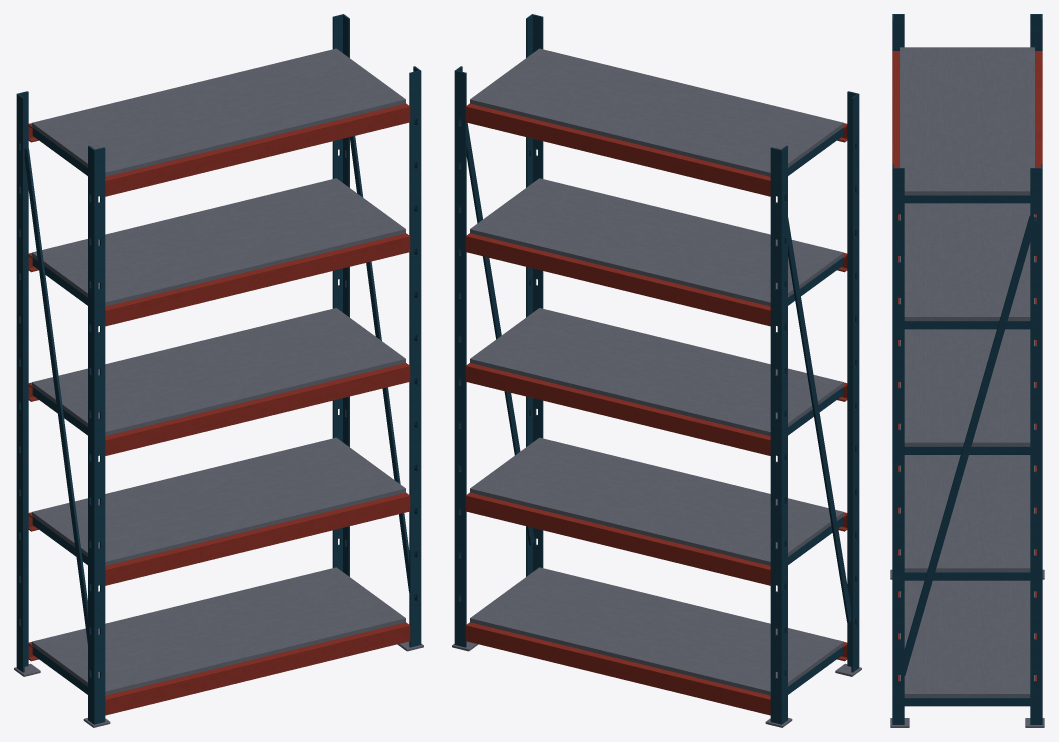
The model's file is backroom_rack.glb.
The picture shows the model from 3 angles, left to right: view 1: azimuth 30°, elevation 25°; view 2: azimuth 150°, elevation 25°; view 3: azimuth 270°, elevation 25°; orthographic projection. The views are drawn at different scales.
Parts seen in each view (by area): view 1: backroom_rack.001; view 2: backroom_rack.001; view 3: backroom_rack.001.
Boxes of the visible parts, box(x1,y1,x2,y2) form: backroom_rack.001: box(14, 14, 423, 727); backroom_rack.001: box(452, 14, 861, 727); backroom_rack.001: box(890, 14, 1044, 727).
Size of what is drawn, in the model's own units: 1.2 by 2 by 0.5.
Materials: 3 (3 with a texture image).
